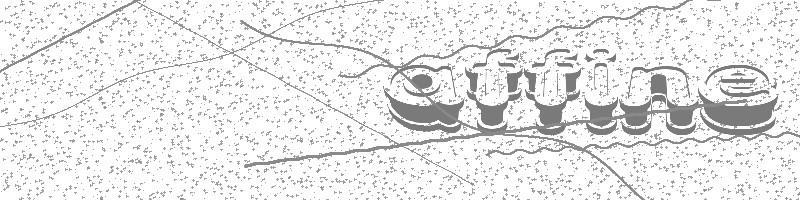a: (383, 58, 467, 135)
e: (694, 62, 779, 135)
f: (463, 43, 526, 141), (527, 38, 584, 145)
i: (584, 39, 619, 137)
n: (621, 61, 702, 139)
